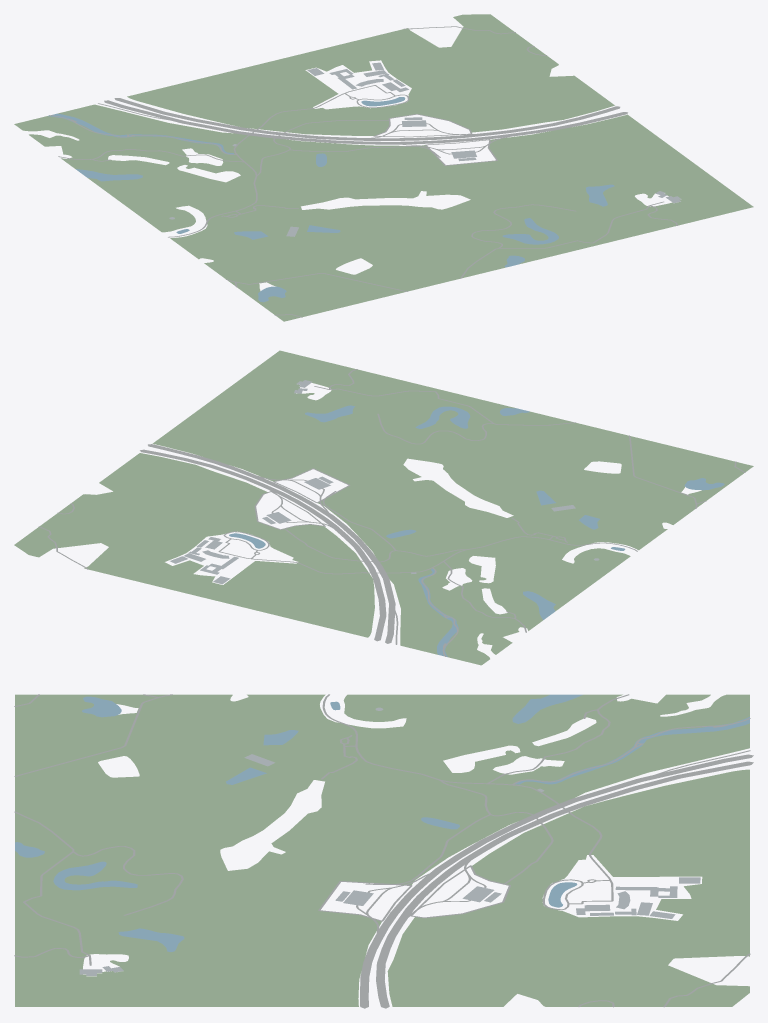
The model's file is 16_8-known-fine.glb.
3 views of the same model, one above another, from view 1: azimuth 30°, elevation 25°; view 2: azimuth 150°, elevation 25°; view 3: azimuth 270°, elevation 25° (orthographic). The views are drawn at different scales.
Bounding box in the file's own units: 1007 × 0.15 × 1002.
